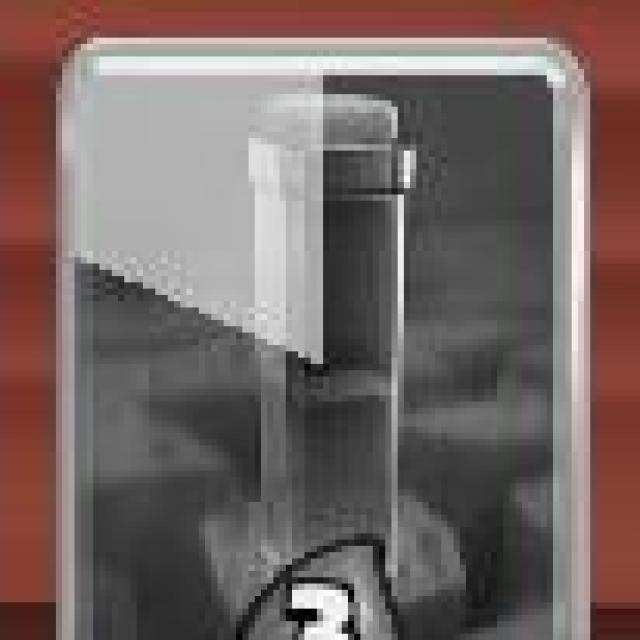Earthquake: (52, 42, 590, 640)
